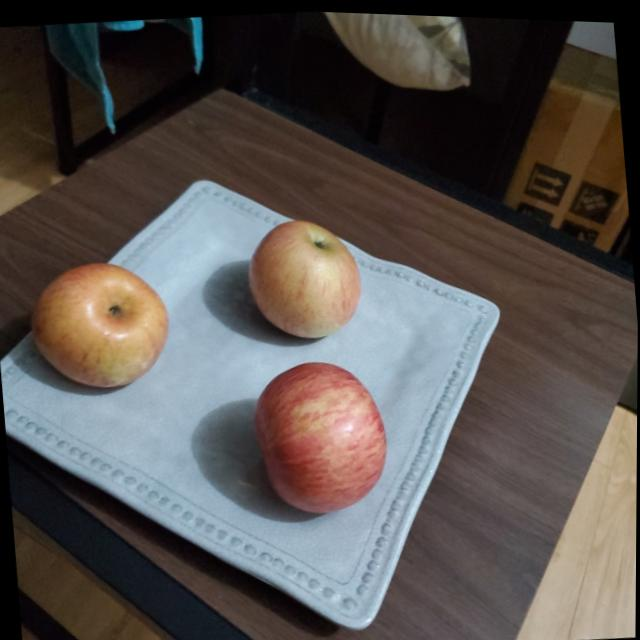apple: (247, 354, 391, 520), (31, 254, 177, 395), (242, 209, 365, 341)
